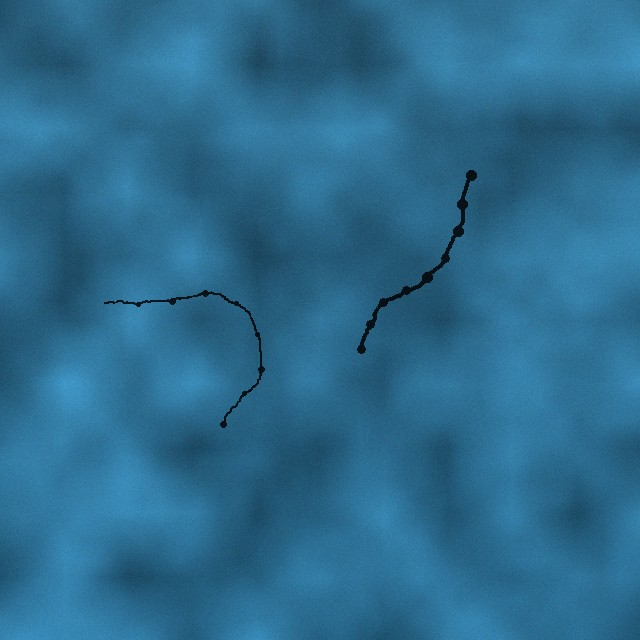crack: (354, 167, 478, 355), (100, 288, 265, 428)
